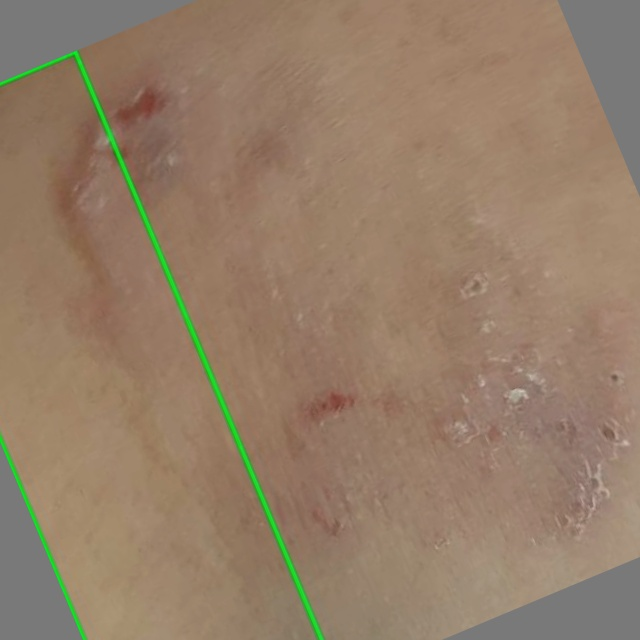Tinea Corporis: (0, 52, 321, 639)
